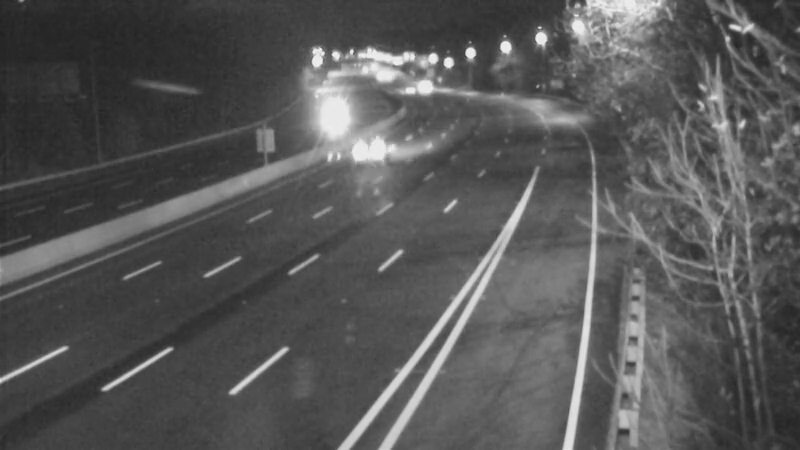vehicle: (396, 62, 446, 112), (380, 62, 430, 112), (346, 120, 396, 170), (309, 85, 359, 135)
